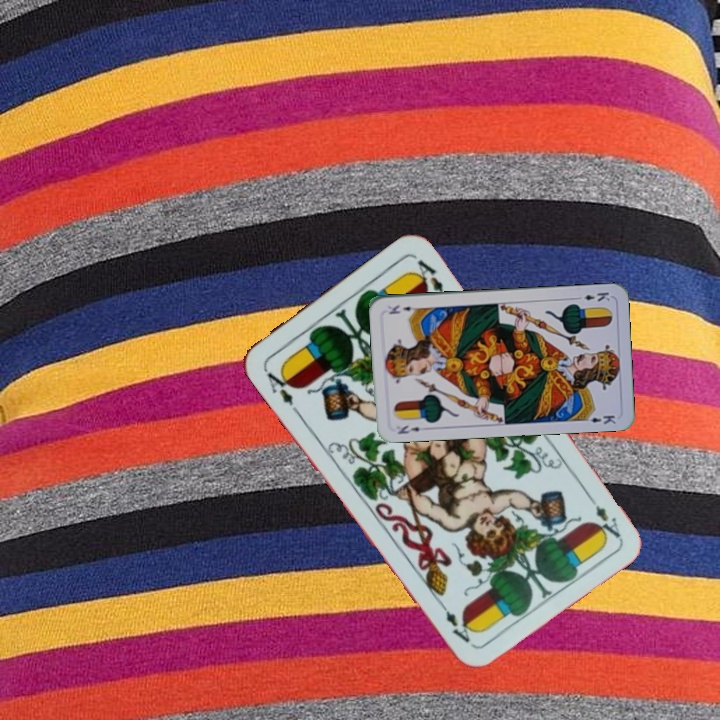EA: (582, 489, 623, 542), (260, 364, 297, 409)
EK: (572, 288, 612, 304), (394, 421, 423, 437)
